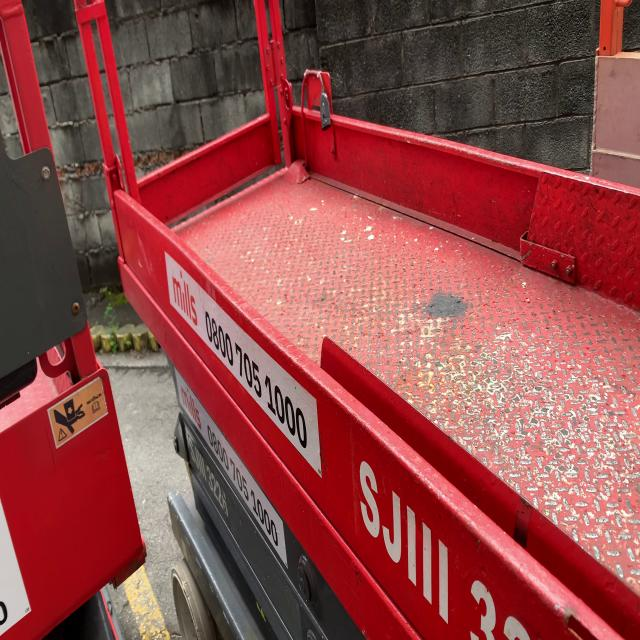Adesivo Longo: (164, 250, 323, 481), (173, 364, 288, 572)
